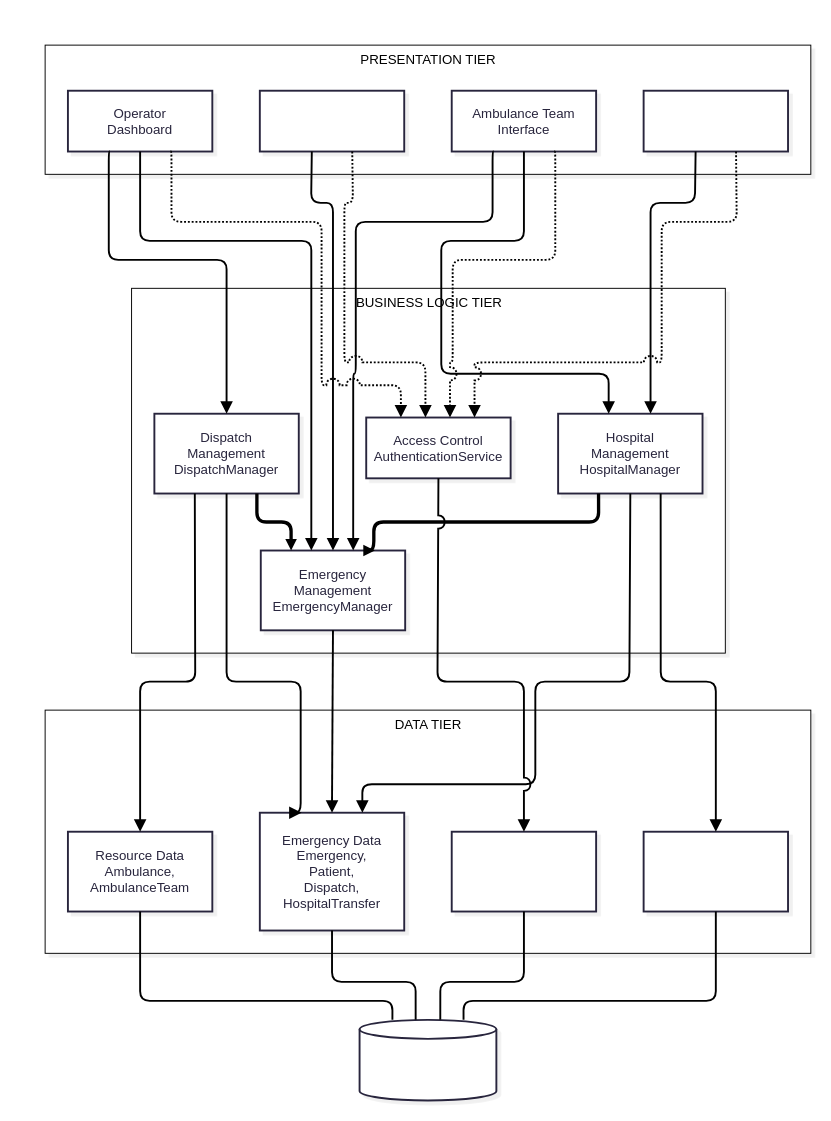
Image size: 831x1121. Some labels were removed from this diagram. Each missing label, with the centre of its shape:
Hospital Data Hospital, MedicalSpecialty: pixel 717 873
Hospital Interface: pixel 717 122
Reporter Interface: pixel 333 122
Shared Database: pixel 429 1061
User Data User and Subclasses: pixel 525 873
